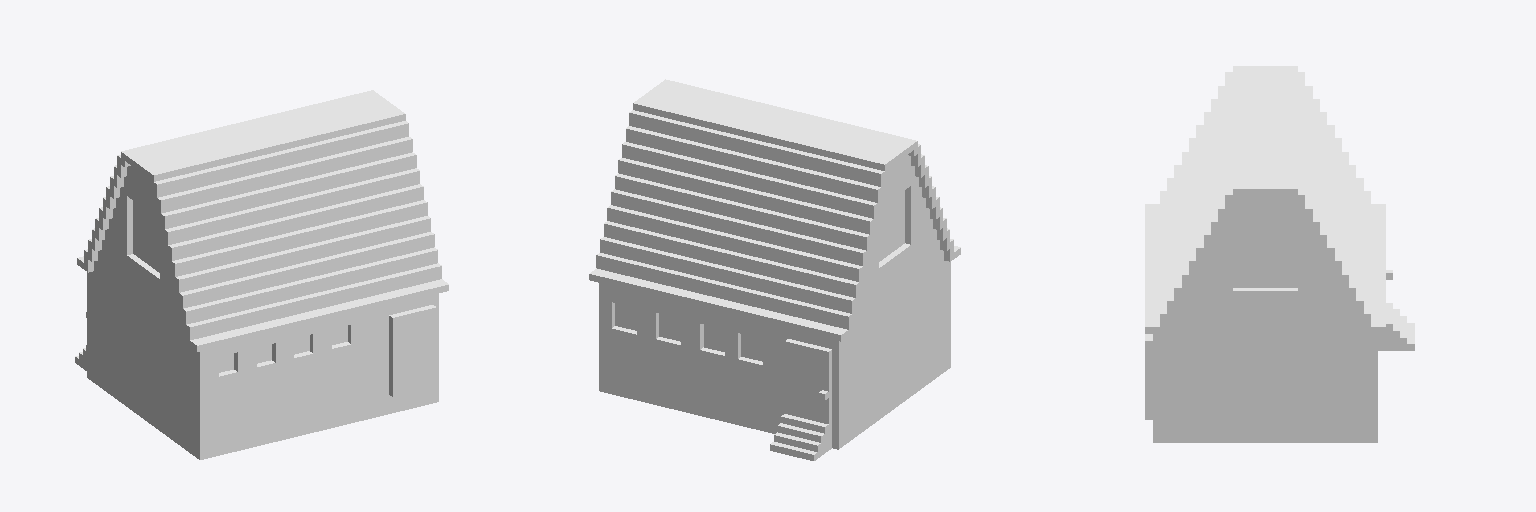
The model's file is home3-0.obj.
3 renders of one model, left to right at view 1: azimuth 30°, elevation 25°; view 2: azimuth 150°, elevation 25°; view 3: azimuth 270°, elevation 25°, orthographic.
Visible parts, largest first — view 1: object 1; view 2: object 1; view 3: object 1.
Boxes of the visible parts, box(x1,y1,x2,y2) form: object 1: box(75, 90, 448, 459); object 1: box(589, 79, 960, 460); object 1: box(1145, 66, 1414, 442).
Bounding box in the file's own units: 4 × 3.9 × 3.7.